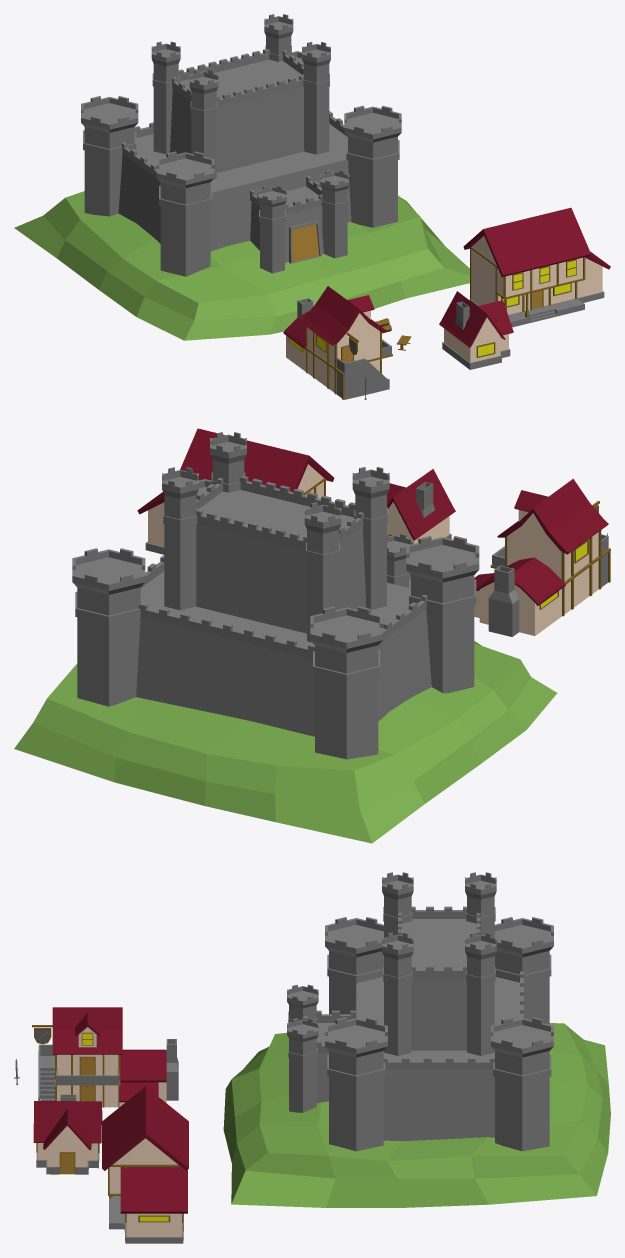
The model's file is buildings export 2.fbx.
The picture shows the model from 3 angles, top to bottom: view 1: azimuth 30°, elevation 25°; view 2: azimuth 150°, elevation 25°; view 3: azimuth 270°, elevation 25°; orthographic projection. The views are drawn at different scales.
Parts seen in each view (by area): view 1: Cube.002, Cube, Circle, Circle.004, Cube.041, Circle.007, House B, Cube.016, Cube.037, HouseMesh, Cube.001, Cube.017 (+6 smaller); view 2: Cube.002, Cube, Circle, Circle.004, HouseMesh, Cube.016, Cube.041, Cube.037, TopRail.001, Cube.012, Cube.014, TopRail.005 (+4 smaller); view 3: Cube.002, Circle, Cube, Circle.004, Cube.041, Circle.007, Cube.044, Cube.037, Cube.016, HouseMesh, Cube.043, Cube.012 (+10 smaller).
Boxes of the visible parts, x1,y1,x2,y2 form: Cube.002: (14,191,469,340); Cube: (118,59,351,251); Circle: (81,51,401,276); Circle.004: (151,14,330,179); Cube.041: (463,207,590,276); Circle.007: (258,170,349,273); House B: (469,249,584,327); Cube.016: (300,286,387,345); Cube.037: (439,291,513,347); HouseMesh: (286,328,379,392); Cube.001: (250,186,323,262); Cube.017: (337,358,389,399); Cube.002: (14,641,557,843); Cube: (136,490,431,736); Circle: (72,479,479,759); Circle.004: (162,432,389,642); HouseMesh: (479,532,598,635); Cube.016: (497,478,608,554); Cube.041: (180,428,334,492); Cube.037: (387,469,455,540); TopRail.001: (138,602,314,659); Cube.012: (476,557,565,605); Cube.014: (488,565,519,636); TopRail.005: (196,509,306,549); Cube.002: (223,1023,610,1207); Circle: (325,917,553,1151); Cube: (354,919,524,1141); Circle.004: (382,872,496,1055); Cube.041: (102,1086,188,1170); Circle.007: (287,984,318,1112); Cube.044: (120,1167,187,1213); Cube.037: (33,1101,102,1149); Cube.016: (52,1007,122,1054); HouseMesh: (57,1054,166,1107); Cube.043: (124,1213,183,1243); Cube.012: (119,1049,166,1082).
Size of the model in its own units: 6018 by 3064 by 7554.
10 materials, 1 textured.
